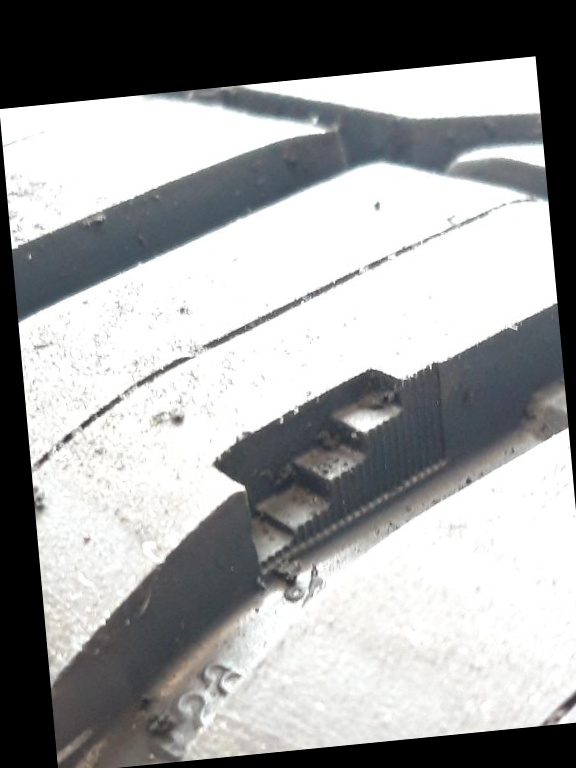temoin:95: (193, 343, 468, 599)
